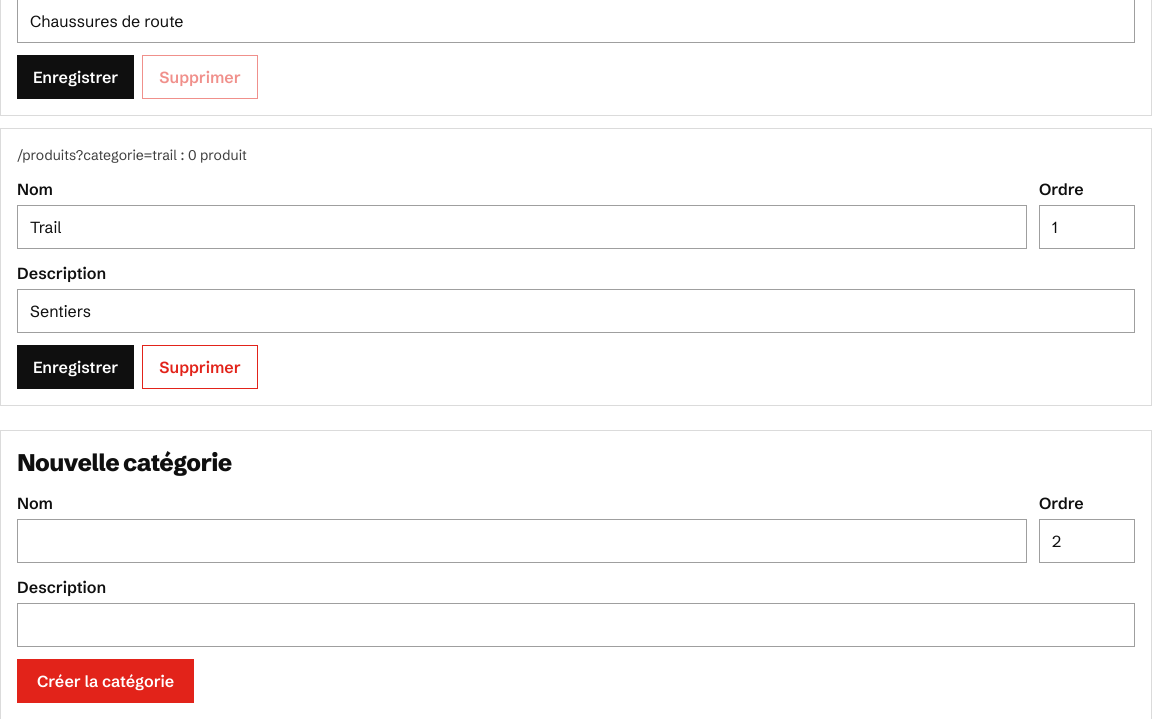
Test: CategoryManager (EA03) › création : nom trop court refusé sans appel
The width and height of the screenshot is (1152, 719).
(page scrolled)
Click the button "Créer la catégorie" at (106, 681), box top-left (17, 659), bottom-right (194, 703)
(page scrolled)
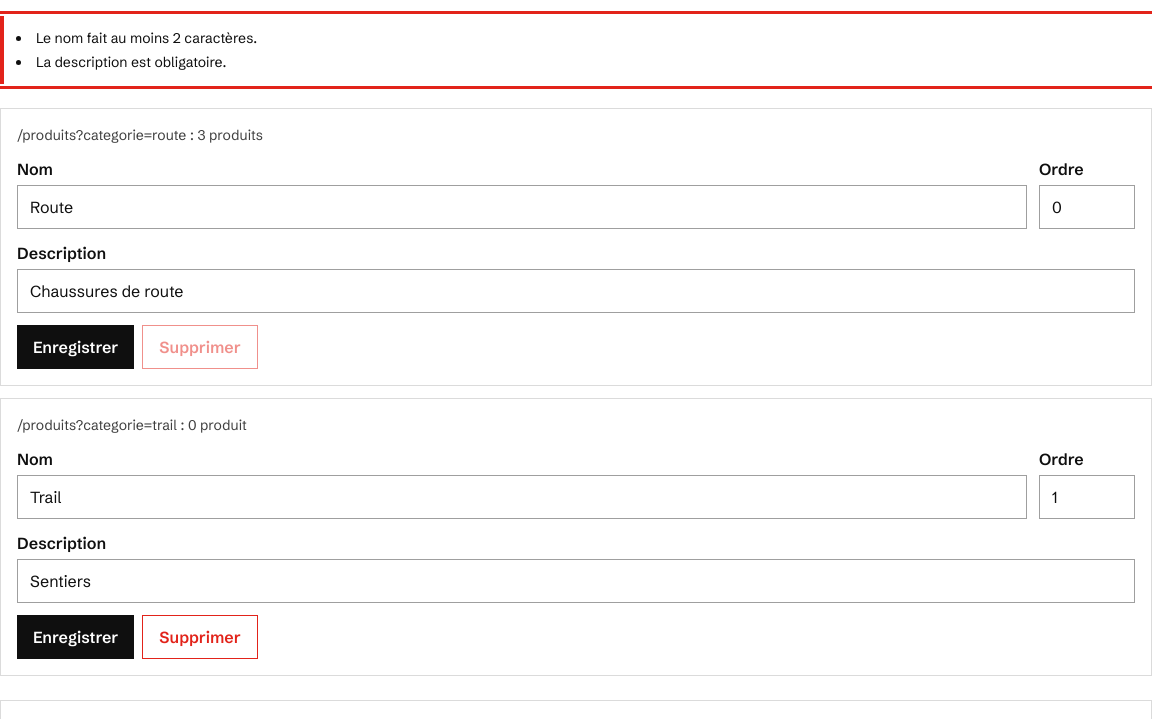
Expected: the message "Le nom fait au moins 2 caractères. La description est obligatoire." is shown, top-left (0, 16), bottom-right (1151, 84)
